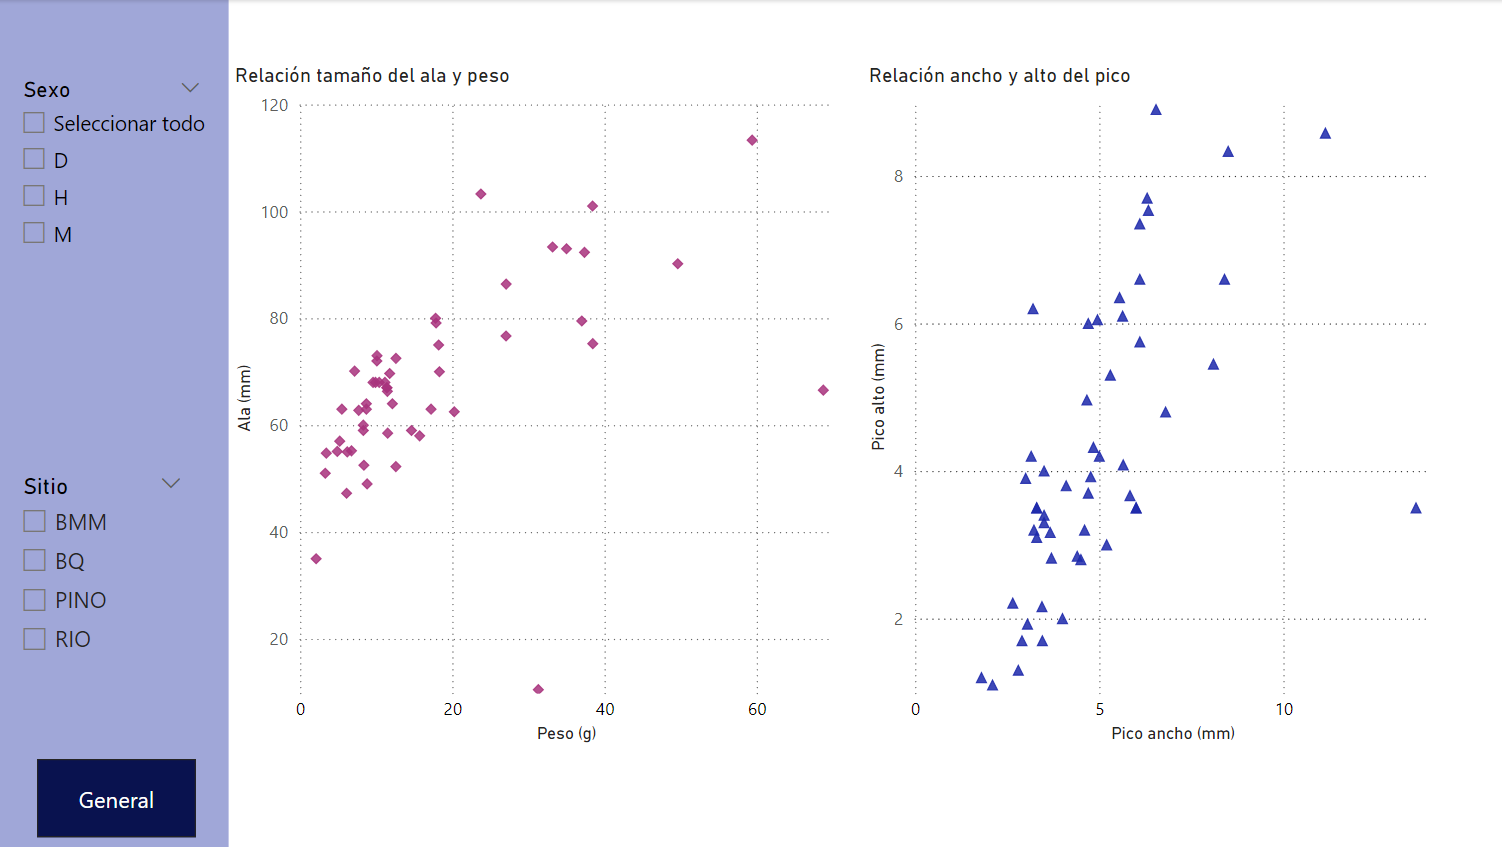

This screenshot's page, from the dashboard's own definition file:
{"tool":"powerbi","page":{"name":"Relaciones medidas","canvas":[1280,720],"ordinal":1},"visuals":[{"type":"shape","box":[0,0,196.3,719.8],"z":0},{"type":"scatterChart","title":"Relación tamaño  del ala y peso","fields":{"X":["Avg(datosaves3.pesogr)"],"Y":["Avg(datosaves3.alamm)"],"Category":["datosaves3.especie"]},"box":[196.1,52.8,522.1,577.6],"z":1000},{"type":"slicer","fields":{"Values":["datosaves3.sexo"]},"box":[10.5,60.2,174.1,171.5],"z":2000},{"type":"scatterChart","title":"Relación ancho y alto del pico","fields":{"X":["Avg(datosaves3.picoanchomm)"],"Y":["Avg(datosaves3.picoaltomm)"],"Category":["datosaves3.especie"]},"box":[730.7,52.8,491.6,577.6],"z":3000},{"type":"slicer","fields":{"Values":["datosaves3.site"]},"box":[10.5,393.9,158.4,204.2],"z":4000},{"type":"pageNavigator","box":[35,639.5,134.1,66.1],"z":5000}]}

Visuals, with their boxes on the page's 1280x720 design canvas (x1, y1, x2, y2). These are canvas units, not pixel positions in the 1502x847 screenshot, which may show the page scaled, cropped or inside an application window:
shape: select_region(0, 0, 196, 720)
"Relación tamaño  del ala y peso" scatterChart: select_region(196, 53, 718, 630)
slicer - datosaves3.sexo: select_region(10, 60, 185, 232)
"Relación ancho y alto del pico" scatterChart: select_region(731, 53, 1222, 630)
slicer - datosaves3.site: select_region(10, 394, 169, 598)
pageNavigator: select_region(35, 640, 169, 706)
